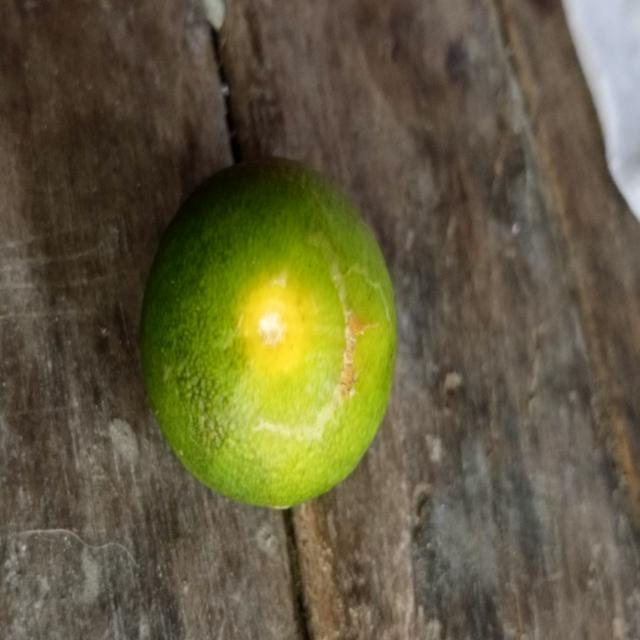thrips: (143, 157, 398, 520)
